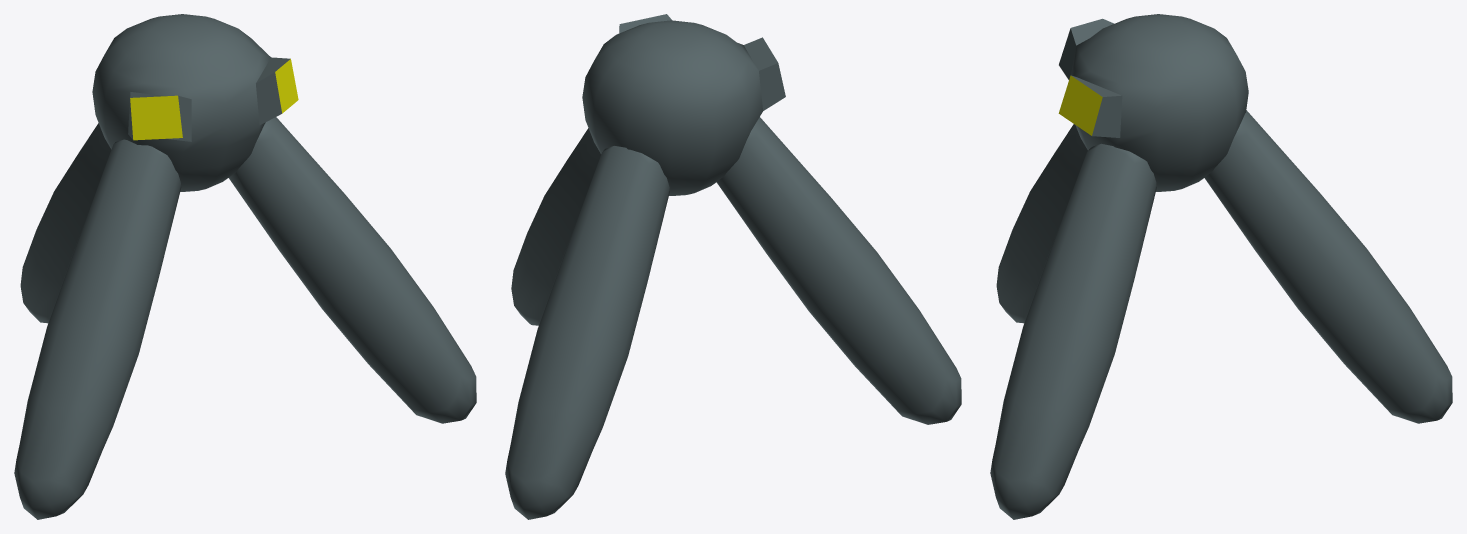
Rendered from tripod.fbx.
The picture shows the model from 3 angles, left to right: view 1: azimuth 30°, elevation 25°; view 2: azimuth 150°, elevation 25°; view 3: azimuth 270°, elevation 25°; orthographic projection.
Parts seen in each view (by area): view 1: legRtGeo, legLfGeo, headGeo, legBaGeo; view 2: legBaGeo, legRtGeo, headGeo, legLfGeo; view 3: legLfGeo, legBaGeo, headGeo, legRtGeo.
Part boxes in pixels (bbox=[...]): legRtGeo: bbox=[14, 139, 181, 519]; legLfGeo: bbox=[229, 117, 476, 423]; headGeo: bbox=[92, 14, 298, 191]; legBaGeo: bbox=[20, 123, 111, 323]; legBaGeo: bbox=[505, 146, 669, 519]; legRtGeo: bbox=[716, 117, 961, 424]; headGeo: bbox=[582, 14, 785, 195]; legLfGeo: bbox=[511, 128, 601, 325]; legLfGeo: bbox=[990, 143, 1156, 519]; legBaGeo: bbox=[1204, 110, 1452, 423]; headGeo: bbox=[1058, 14, 1248, 191]; legRtGeo: bbox=[996, 124, 1087, 323].
Size of the model in its own units: 4.8 by 4.04 by 4.29.
